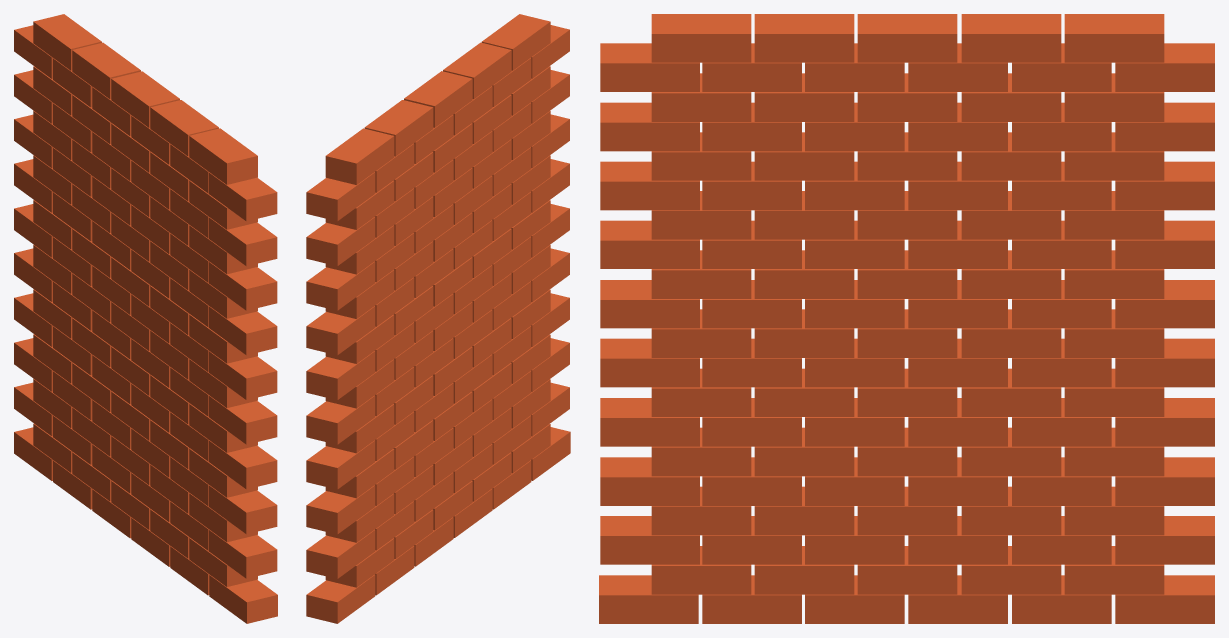
The model's file is Brick_wall.fbx.
3 renders of one model, left to right at view 1: azimuth 30°, elevation 25°; view 2: azimuth 150°, elevation 25°; view 3: azimuth 270°, elevation 25°, orthographic. The views are drawn at different scales.
Visible parts, largest first — view 1: brick.108, brick.032, brick.098, brick.043, brick.076, brick.109, brick.021, brick.065, brick.087, brick.054, brick, brick.105 (+98 smaller); view 2: brick.104, brick.011, brick.044, brick.077, brick.022, brick.033, brick.055, brick.066, brick.088, brick.099, brick.001, brick.106 (+98 smaller); view 3: brick.104, brick.105, brick.106, brick.107, brick.108, brick.087, brick.077, brick.054, brick.098, brick.044, brick.088, brick (+98 smaller).
Boxes of the visible parts, left/top/right/bottom form: brick.108: left=189, top=128, right=257, bottom=184; brick.032: left=208, top=485, right=277, bottom=534; brick.098: left=208, top=217, right=277, bottom=266; brick.043: left=208, top=440, right=277, bottom=489; brick.076: left=208, top=306, right=277, bottom=355; brick.109: left=208, top=172, right=277, bottom=221; brick.021: left=208, top=529, right=277, bottom=578; brick.065: left=208, top=351, right=277, bottom=399; brick.087: left=208, top=261, right=277, bottom=310; brick.054: left=208, top=395, right=277, bottom=444; brick: left=209, top=574, right=277, bottom=623; brick.105: left=72, top=42, right=140, bottom=99; brick.104: left=325, top=128, right=394, bottom=184; brick.011: left=306, top=529, right=375, bottom=578; brick.044: left=306, top=395, right=375, bottom=444; brick.077: left=306, top=261, right=375, bottom=310; brick.022: left=306, top=485, right=375, bottom=534; brick.033: left=306, top=440, right=375, bottom=489; brick.055: left=306, top=351, right=375, bottom=400; brick.066: left=306, top=306, right=375, bottom=355; brick.088: left=306, top=217, right=375, bottom=266; brick.099: left=306, top=172, right=375, bottom=221; brick.001: left=306, top=574, right=375, bottom=623; brick.106: left=404, top=71, right=472, bottom=127; brick.104: left=1064, top=14, right=1164, bottom=62; brick.105: left=961, top=14, right=1061, bottom=62; brick.106: left=857, top=14, right=957, bottom=62; brick.107: left=754, top=14, right=854, bottom=62; brick.108: left=651, top=14, right=751, bottom=62; brick.087: left=600, top=161, right=699, bottom=210; brick.077: left=1115, top=161, right=1214, bottom=210; brick.054: left=600, top=338, right=699, bottom=387; brick.098: left=600, top=102, right=699, bottom=151; brick.044: left=1115, top=338, right=1214, bottom=387; brick.088: left=1115, top=102, right=1214, bottom=151; brick: left=599, top=575, right=698, bottom=623.
Size of the model in its own units: 217 by 16.65 by 229.
